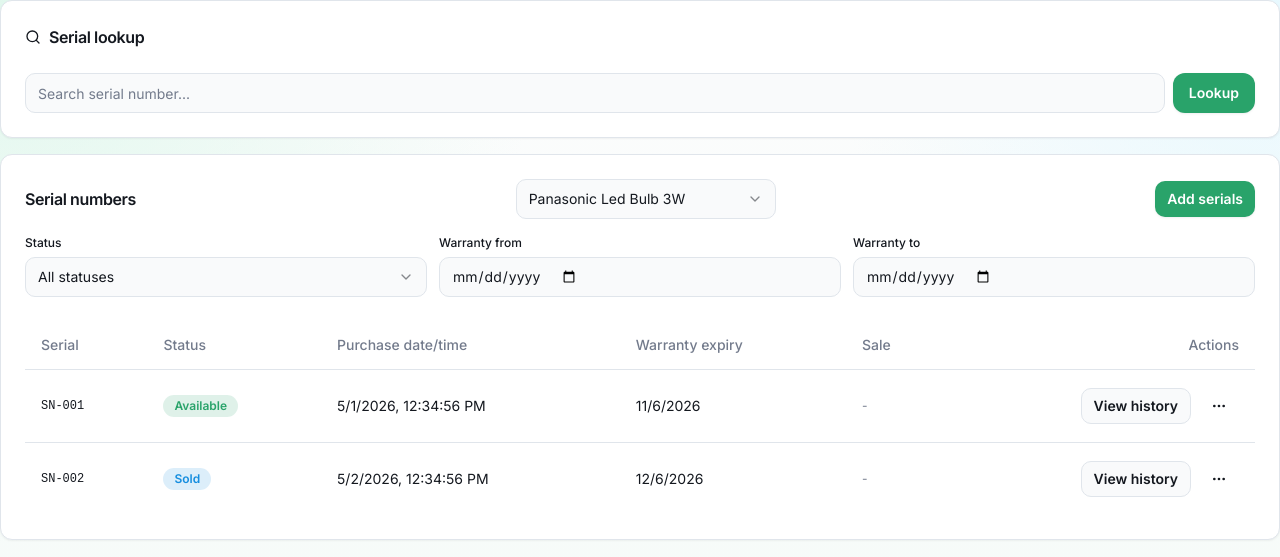
Test: SerialNumbersTab › filters serial rows by status
The width and height of the screenshot is (1280, 557).
Expected: the text "SN-001" is shown, [25,369,147,442]
Expected: the text "SN-002" is shown, [25,442,147,514]
Click the dropdown labelled "All statuses".
click(76, 276)  # box [25,257,427,297]
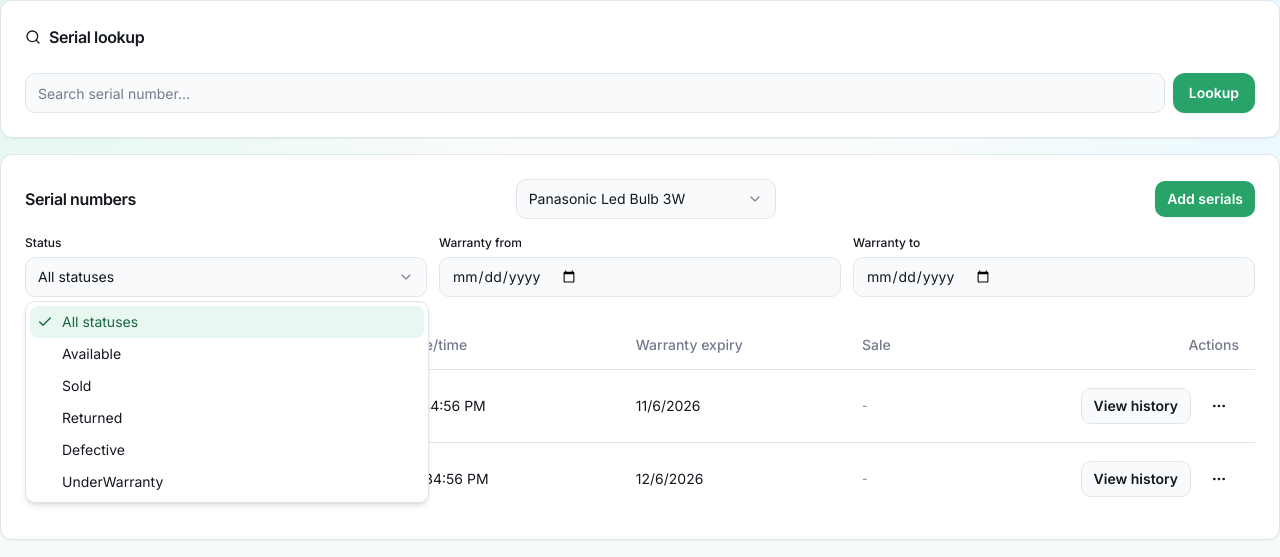
Click the option "Sold".
click(77, 386)  # box [62,377,91,394]
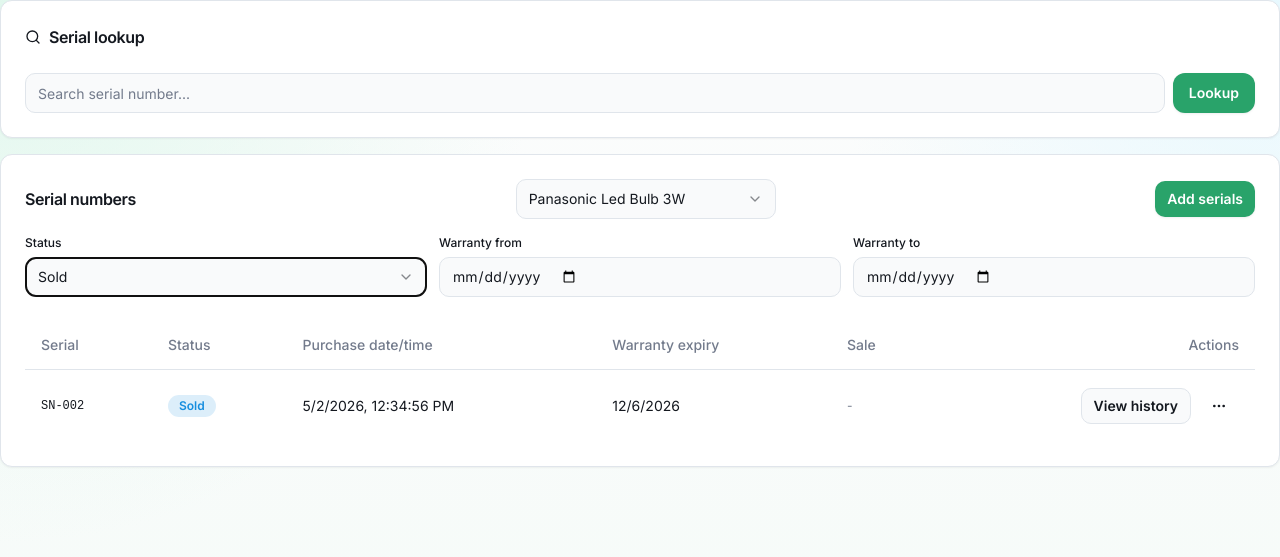
Expected: the text "SN-002" is shown, [25,369,152,442]
Now the text "SN-001" is gone
